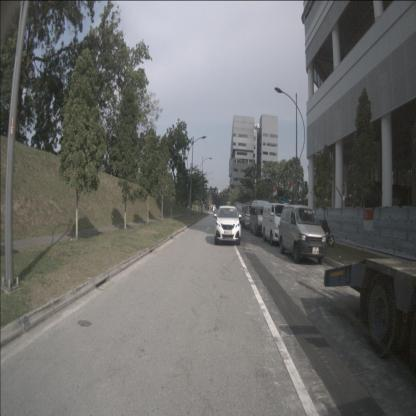vehicle-car: (278, 206, 325, 264), (261, 203, 293, 248), (215, 205, 241, 245), (250, 200, 273, 238), (242, 204, 258, 230), (233, 202, 246, 224), (214, 208, 219, 218)
vehicle-motorcycle: (312, 217, 334, 248)
vehicle-truck: (324, 243, 415, 372)
